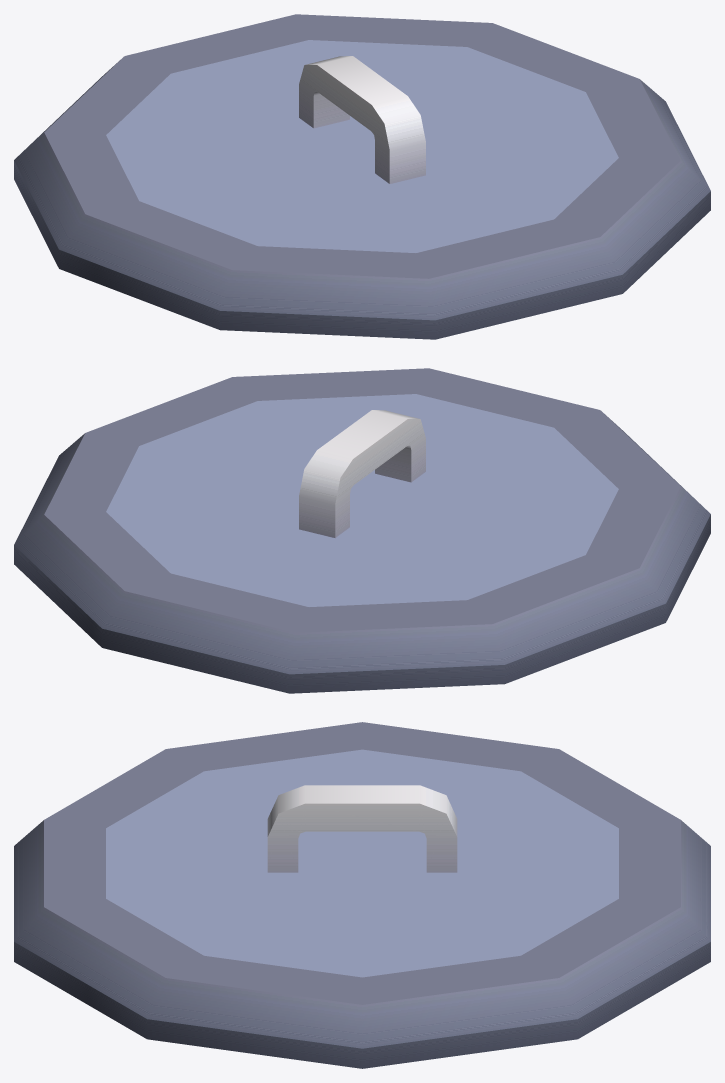
The model's file is pot-lid.glb.
The picture shows the model from 3 angles, top to bottom: view 1: azimuth 30°, elevation 25°; view 2: azimuth 150°, elevation 25°; view 3: azimuth 270°, elevation 25°; orthographic projection. The views are drawn at different scales.
Parts seen in each view (by area): view 1: pot-lid; view 2: pot-lid; view 3: pot-lid.
Boxes of the visible parts, bbox=[...] form: pot-lid: bbox=[14, 14, 710, 339]; pot-lid: bbox=[14, 368, 710, 693]; pot-lid: bbox=[14, 722, 710, 1068].
Size of the model in its own units: 0.6574 by 0.1184 by 0.6253.
Materials: 1 (1 with a texture image).
